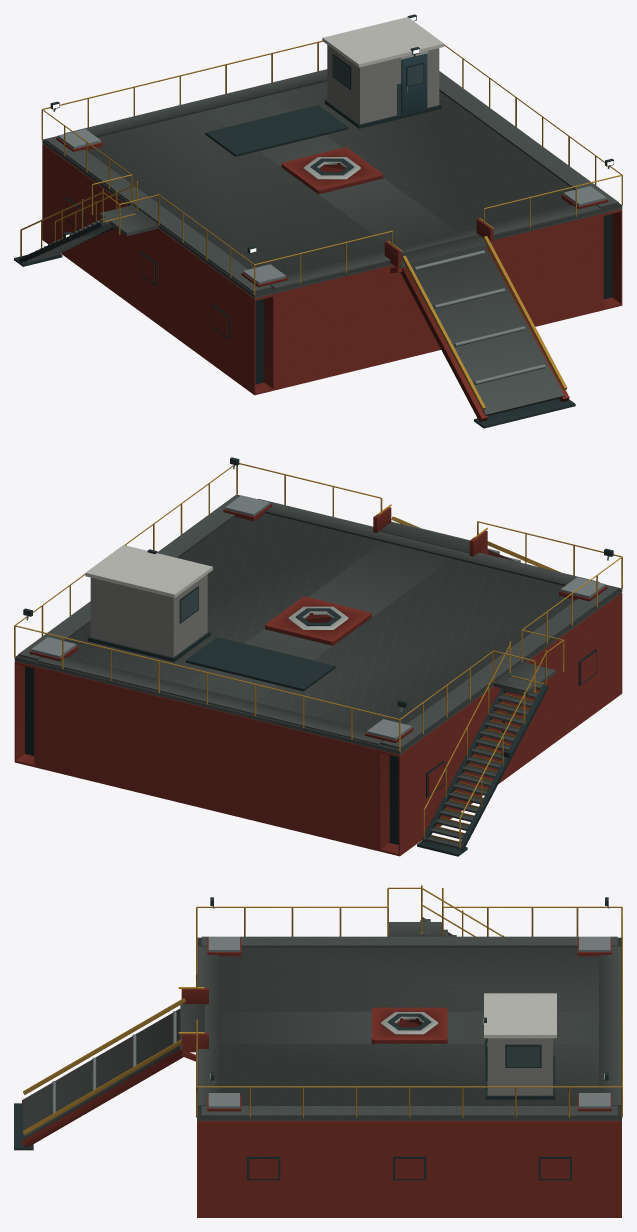
Rendered from offshore_drill_floor_lodL.glb.
The picture shows the model from 3 angles, top to bottom: view 1: azimuth 30°, elevation 25°; view 2: azimuth 150°, elevation 25°; view 3: azimuth 270°, elevation 25°; orthographic projection. The views are drawn at different scales.
Visible parts, largest first — view 1: deck_plate_deck, primary_box_girders_oxide, perimeter_grating_deck, catwalk_ramp_deck, doghouse_ivory, setback_dark, handrails_yellow, rotary_table_oxide, catwalk_ramp_oxide, catwalk_ramp_yellow, stairs_deck, girder_stiffeners_and_diaphragms_dark (+10 smaller); view 2: primary_box_girders_oxide, deck_plate_deck, perimeter_grating_deck, doghouse_ivory, stairs_deck, setback_dark, handrails_yellow, stairs_yellow, stairs_dark, rotary_table_oxide, girder_stiffeners_and_diaphragms_dark, doghouse_dark (+8 smaller); view 3: deck_plate_deck, primary_box_girders_oxide, perimeter_grating_deck, doghouse_ivory, catwalk_ramp_deck, handrails_yellow, rotary_table_oxide, catwalk_ramp_oxide, catwalk_ramp_yellow, girder_access_covers_oxide, doghouse_dark, vdoor_oxide (+12 smaller).
Boxes of the visible parts, x1,y1,x2,y2 form: deck_plate_deck: [42, 81, 622, 298]; primary_box_girders_oxide: [42, 143, 622, 395]; perimeter_grating_deck: [45, 69, 618, 292]; catwalk_ramp_deck: [411, 247, 564, 415]; doghouse_ivory: [322, 17, 444, 124]; setback_dark: [205, 105, 348, 156]; handrails_yellow: [41, 40, 622, 295]; rotary_table_oxide: [281, 147, 382, 194]; catwalk_ramp_oxide: [400, 247, 569, 421]; catwalk_ramp_yellow: [402, 236, 567, 409]; stairs_deck: [25, 205, 158, 262]; girder_stiffeners_and_diaphragms_dark: [255, 214, 612, 384]; primary_box_girders_oxide: [14, 593, 622, 856]; deck_plate_deck: [14, 495, 622, 754]; perimeter_grating_deck: [18, 495, 618, 748]; doghouse_ivory: [85, 545, 212, 657]; stairs_deck: [426, 662, 555, 848]; setback_dark: [185, 637, 335, 691]; handrails_yellow: [14, 463, 622, 751]; stairs_yellow: [423, 629, 564, 849]; stairs_dark: [417, 675, 548, 856]; rotary_table_oxide: [265, 596, 371, 645]; girder_stiffeners_and_diaphragms_dark: [25, 666, 398, 844]; doghouse_dark: [87, 586, 210, 661]; deck_plate_deck: [197, 937, 621, 1120]; primary_box_girders_oxide: [197, 1022, 621, 1217]; perimeter_grating_deck: [198, 936, 620, 1116]; doghouse_ivory: [484, 993, 556, 1095]; catwalk_ramp_deck: [23, 1009, 180, 1139]; handrails_yellow: [196, 906, 622, 1117]; rotary_table_oxide: [371, 1007, 447, 1043]; catwalk_ramp_oxide: [22, 1009, 183, 1147]; catwalk_ramp_yellow: [23, 998, 185, 1134]; girder_access_covers_oxide: [249, 1159, 569, 1178]; doghouse_dark: [485, 1044, 555, 1099]; vdoor_oxide: [181, 988, 208, 1061].
Bounding box in the file's own units: 15.66 × 6.09 × 20.05.
10 materials, 10 textured.
